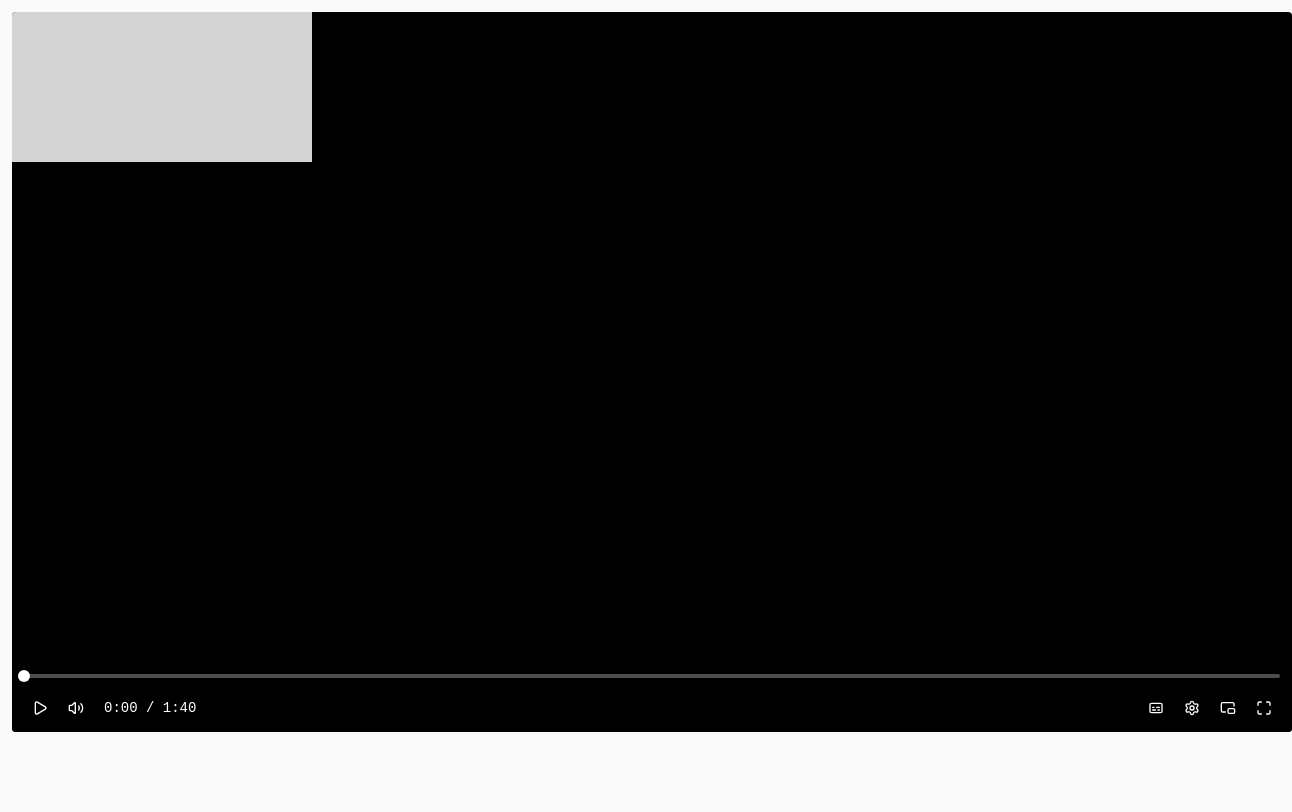
Test: 速度メニュー行 › 速度メニューへ入れる
The image size is (1292, 812).
Step 1. Click the button named "再生設定" → (1192, 708), box [1176,692,1208,724]
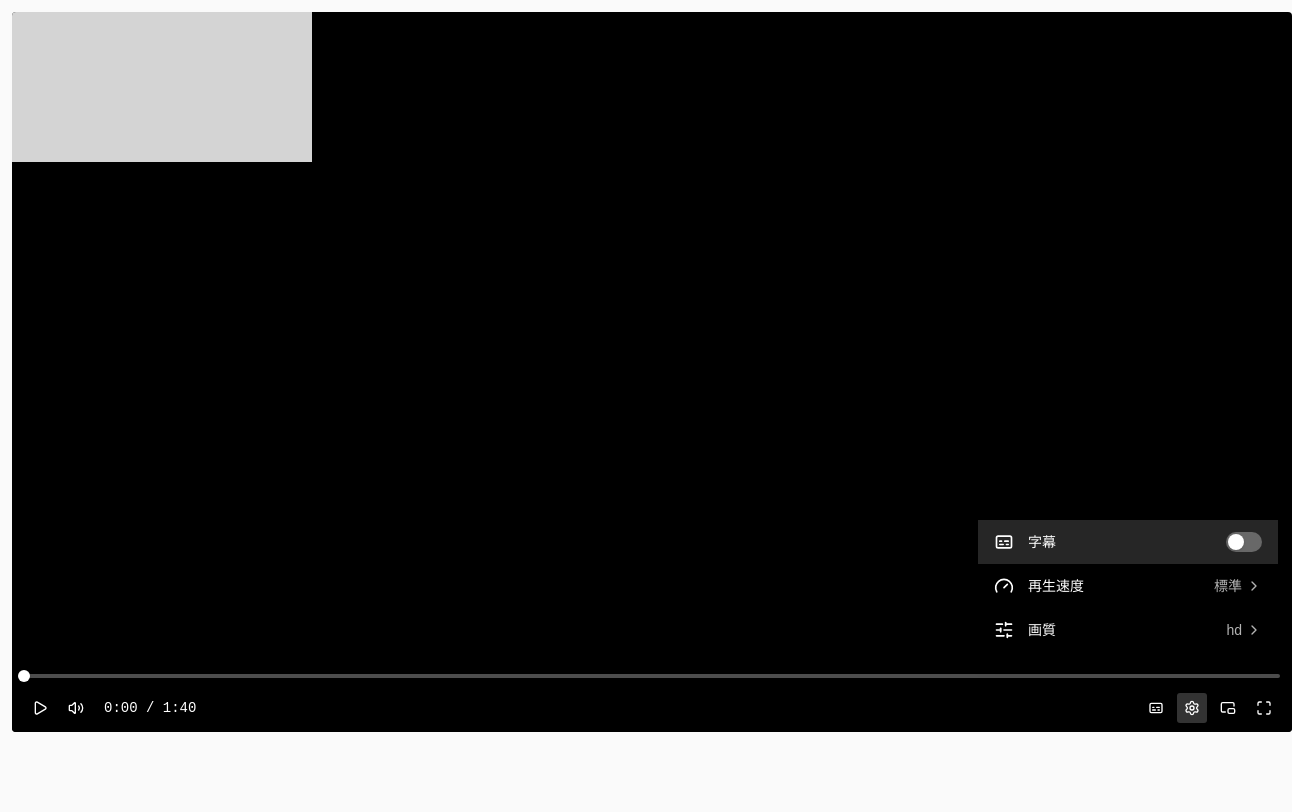
Step 2. Click the menu item "再生速度 標準" → (1056, 586), box [978,564,1278,608]
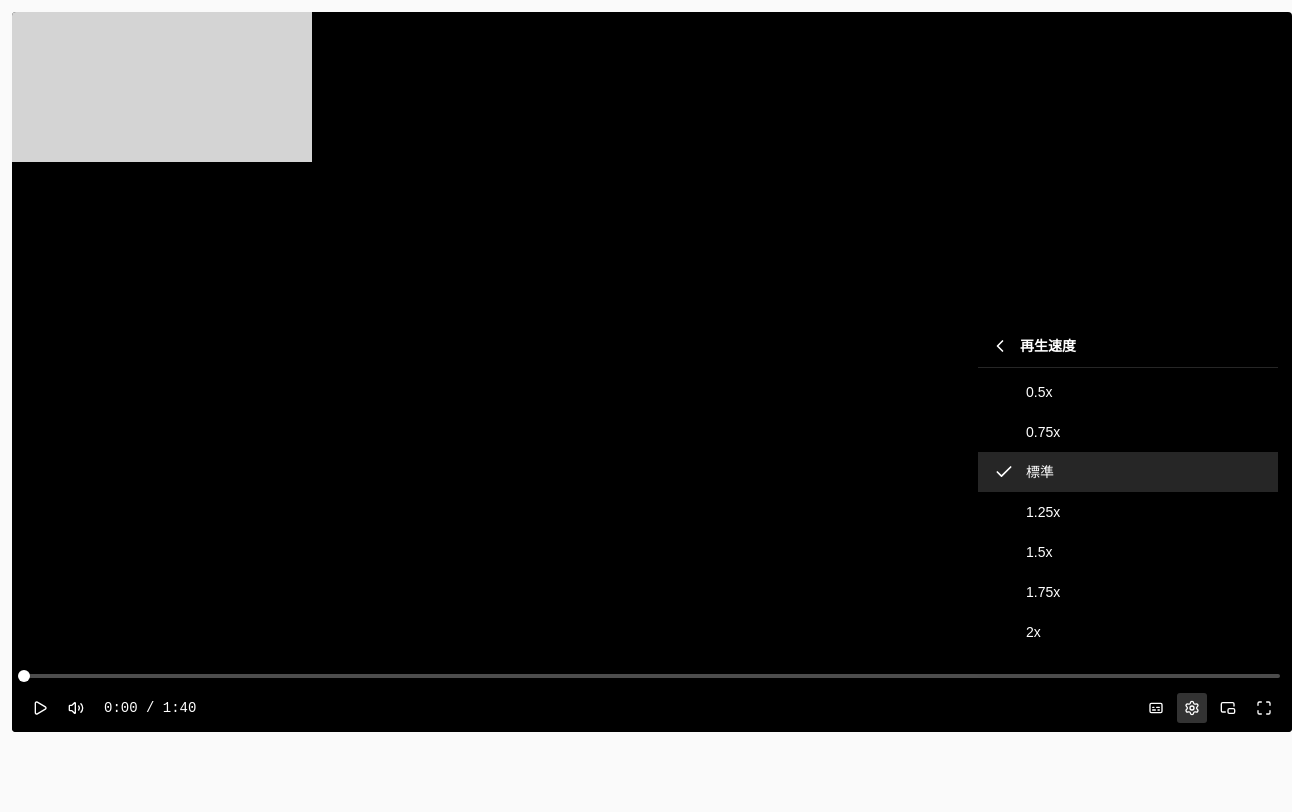
Expected: the menu item "2x" is shown, [978,612,1278,652]
